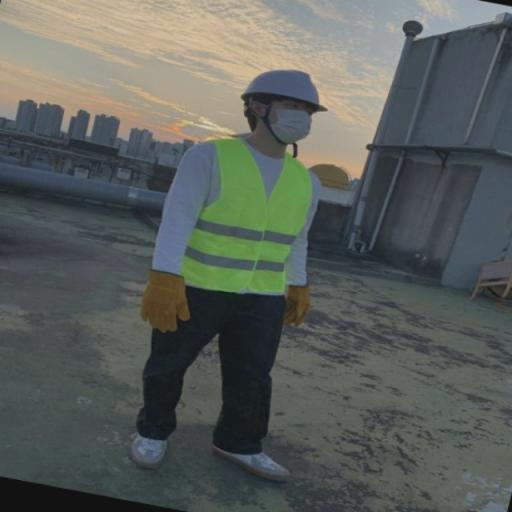Person: (117, 34, 377, 488)
boots: (208, 433, 298, 486), (127, 422, 177, 468)
gloves: (134, 265, 194, 336), (272, 282, 318, 332)
helmet: (239, 66, 331, 106)
vest: (173, 130, 312, 303)
